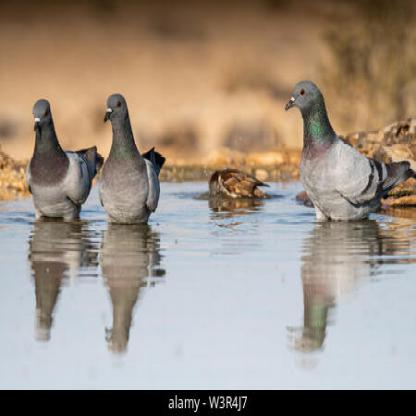Flying Rat: (281, 77, 415, 234), (13, 88, 91, 229), (98, 96, 160, 226)
